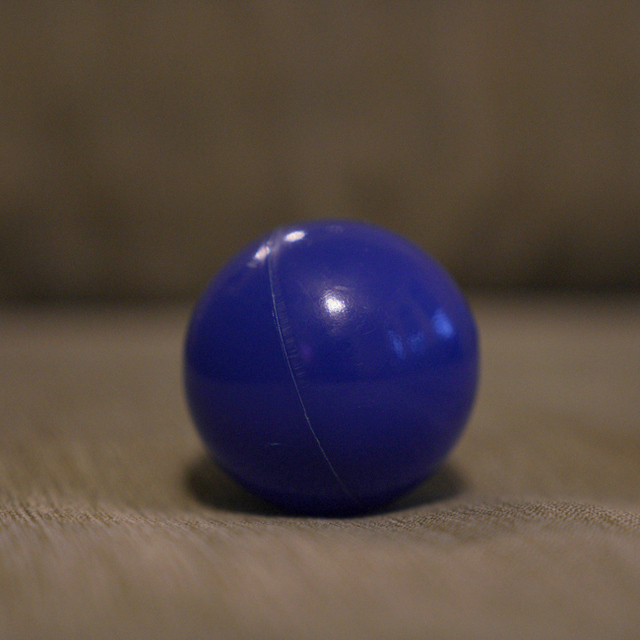Ball: (185, 218, 478, 515)
